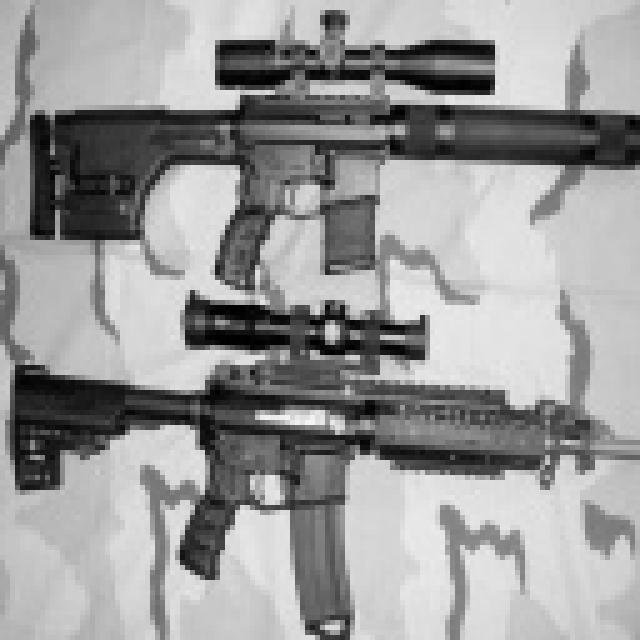Rifle: (0, 255, 640, 640), (0, 0, 640, 296)
